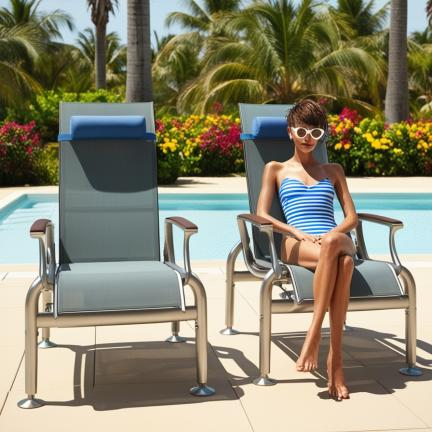empty chair: (18, 102, 214, 408)
guest on chair: (222, 100, 421, 400)
